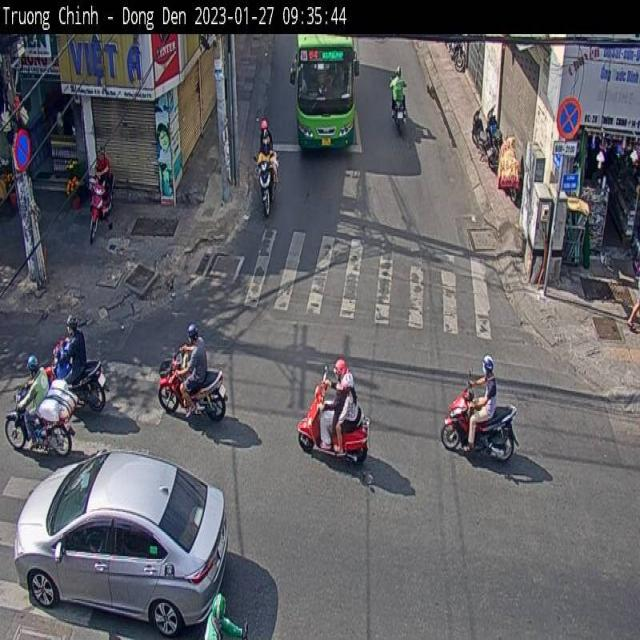with_helmet: (476, 349, 501, 395), (178, 314, 206, 350), (91, 142, 114, 177), (25, 347, 43, 378), (62, 304, 78, 337), (341, 372, 359, 400), (334, 358, 349, 391), (256, 112, 271, 134), (393, 64, 406, 85), (260, 133, 270, 148)
